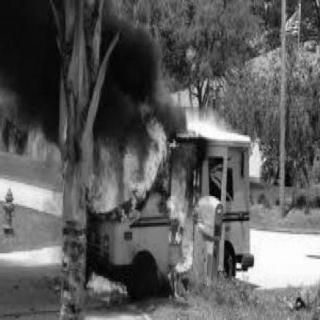Fire: (88, 100, 170, 222), (168, 134, 208, 270)
Smoke: (5, 4, 74, 151), (87, 0, 162, 118)
